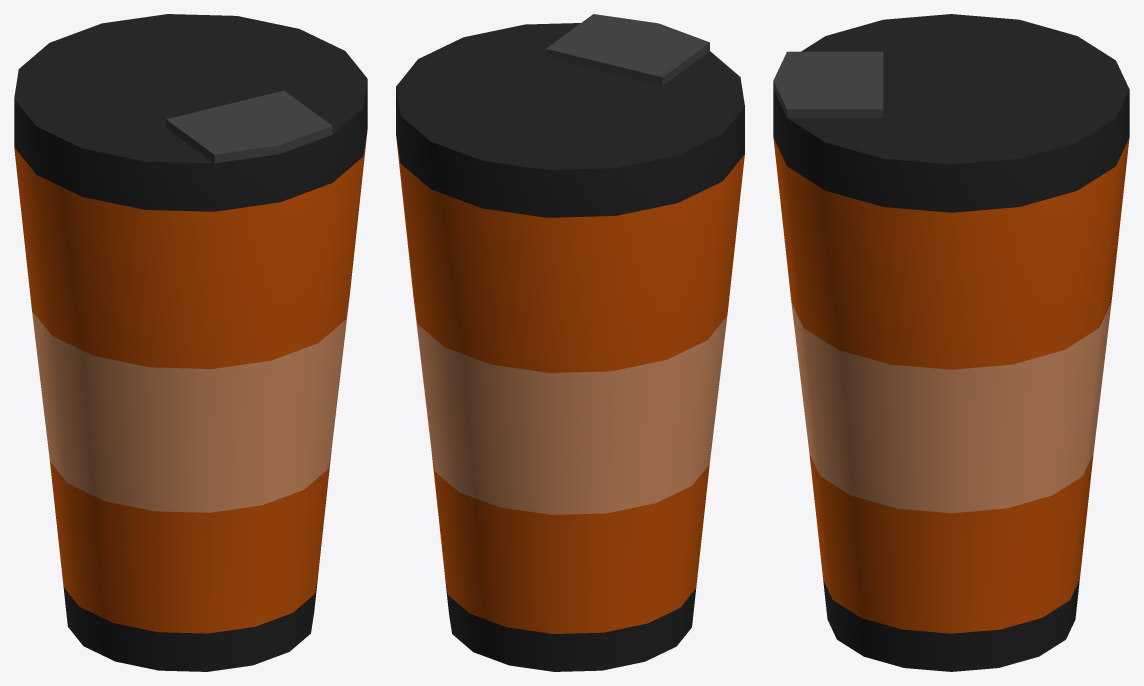
The model's file is Thermos.fbx.
3 views of the same model, side by side, from view 1: azimuth 30°, elevation 25°; view 2: azimuth 150°, elevation 25°; view 3: azimuth 270°, elevation 25° (orthographic).
Parts seen in each view (by area): view 1: Thermos; view 2: Thermos; view 3: Thermos.
Part boxes in pixels (left/top/right/bottom): Thermos: left=14, top=14, right=367, bottom=671; Thermos: left=396, top=14, right=744, bottom=671; Thermos: left=773, top=14, right=1129, bottom=671.
Bounding box in the file's own units: 0.1572 × 0.2626 × 0.1572.
